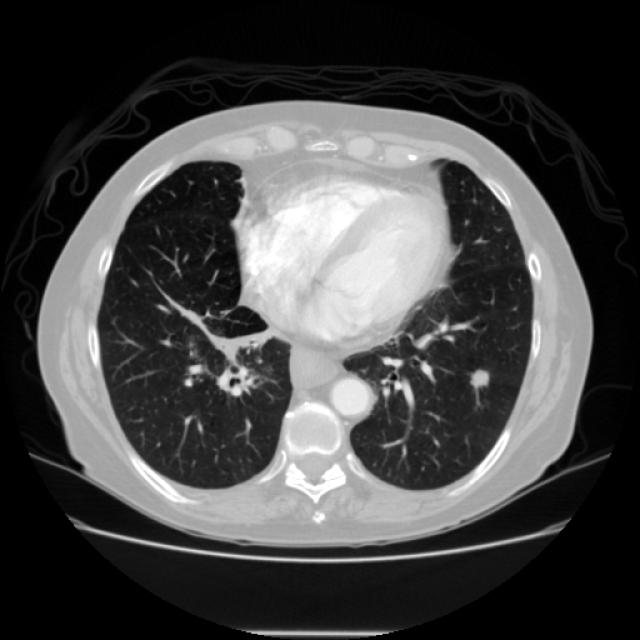nodule: (458, 356, 500, 399)
